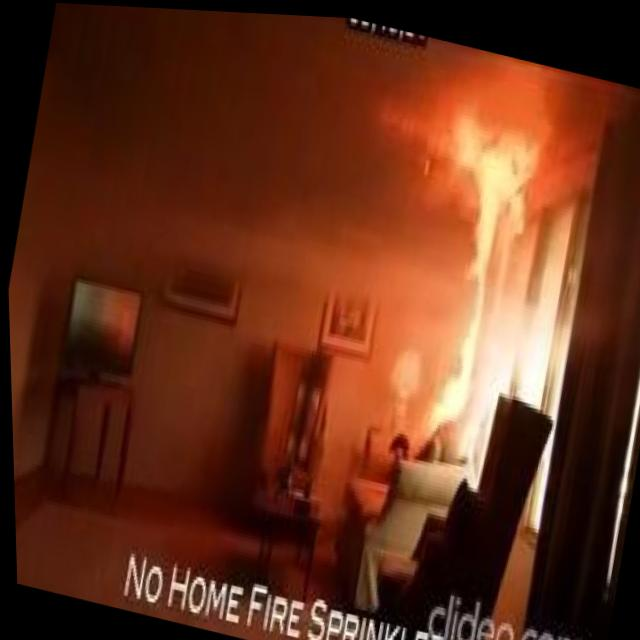fire: (413, 95, 545, 231), (423, 214, 502, 422)
